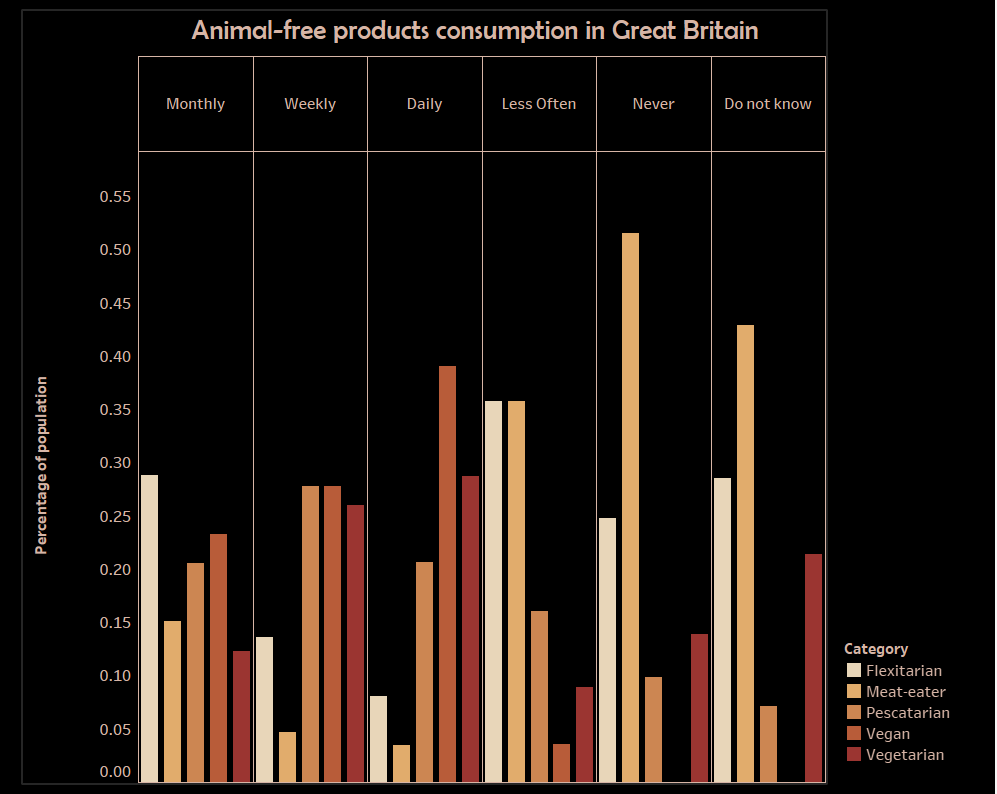

The dashboard page shown, as its layout file describes it:
{"tool":"tableau","page":{"name":"Dashboard 1","canvas":[1000,800],"ordinal":0},"visuals":[{"type":"worksheet","title":"Sheet 1","mark":"Automatic","cols":["Category"],"box":[28,15,803,772]},{"type":"legend","title":"Sheet 1","param":"[federated.0x7137u0l0153h1fbe4xk1k9vp91].[none:Category:nk]","box":[849,642,132,136]}]}

Visuals, with their boxes in screenshot pixels (x1, y1, x2, y2), scaled from the page's 1000x800 canvas onto the 997x794 screenshot:
"Sheet 1" worksheet: <box>28,15,829,781</box>
"Sheet 1" legend: <box>846,637,978,772</box>
